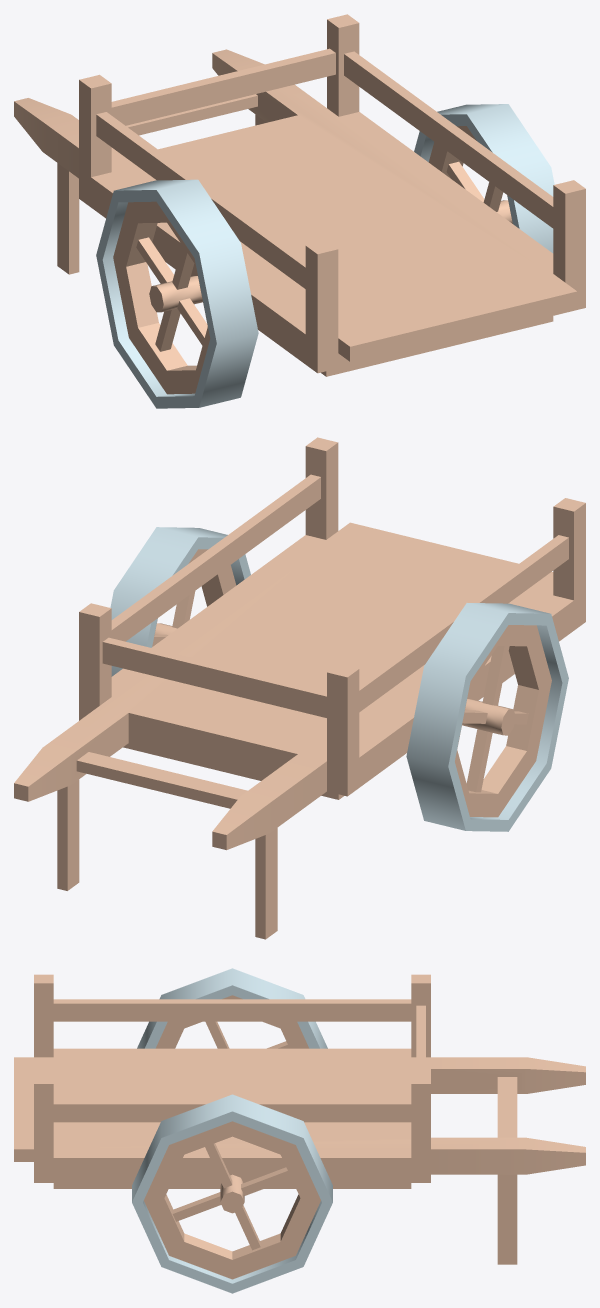
The picture shows the model from 3 angles, top to bottom: view 1: azimuth 30°, elevation 25°; view 2: azimuth 150°, elevation 25°; view 3: azimuth 270°, elevation 25°; orthographic projection. The views are drawn at different scales.
Parts seen in each view (by area): view 1: cart, wheel (×2); view 2: cart, wheel (×2); view 3: cart, wheel (×2).
Boxes of the visible parts, <box> form: cart: <box>14,14,585,376</box>; wheel (×2): <box>96,104,554,408</box>; cart: <box>14,437,585,939</box>; wheel (×2): <box>110,527,568,831</box>; cart: <box>14,974,585,1264</box>; wheel (×2): <box>132,968,332,1293</box>.
Bounding box in the file's own units: 0.8525 × 0.5355 × 1.44.
